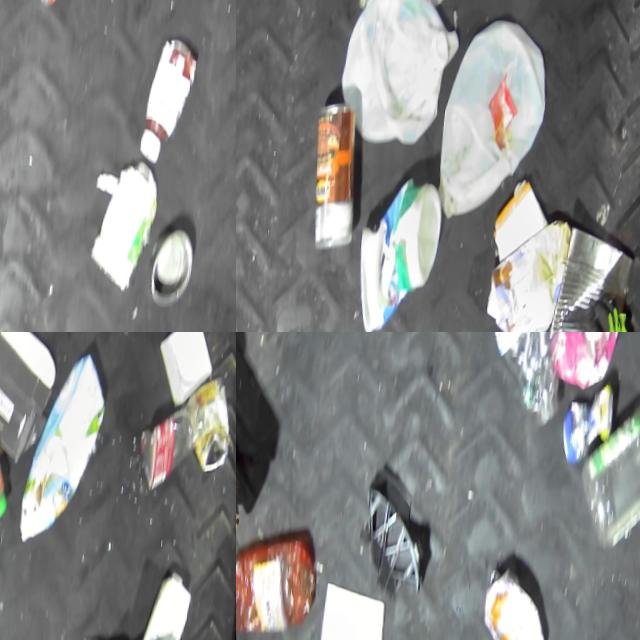can: (549, 253, 626, 332), (145, 221, 200, 319), (557, 385, 615, 471), (184, 385, 233, 477)
milk_jug: (430, 28, 556, 233), (340, 5, 455, 150)
plastic_bottle: (467, 332, 577, 423), (141, 404, 210, 498)
